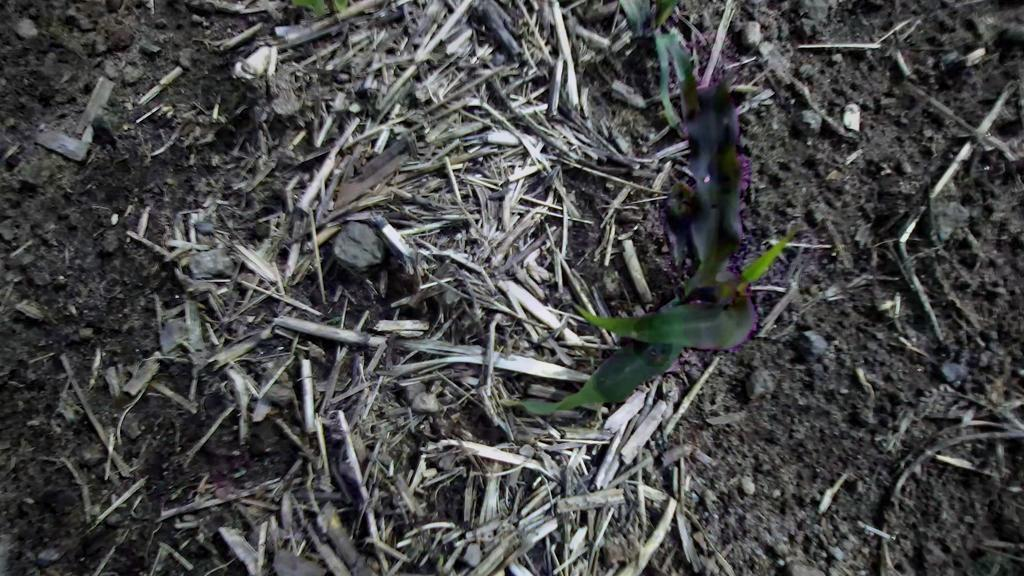BroWeed: (166, 477, 199, 502), (326, 509, 343, 530), (174, 253, 191, 273), (232, 465, 249, 482), (325, 315, 343, 327), (435, 554, 443, 573)
Maize: (516, 64, 856, 488)
